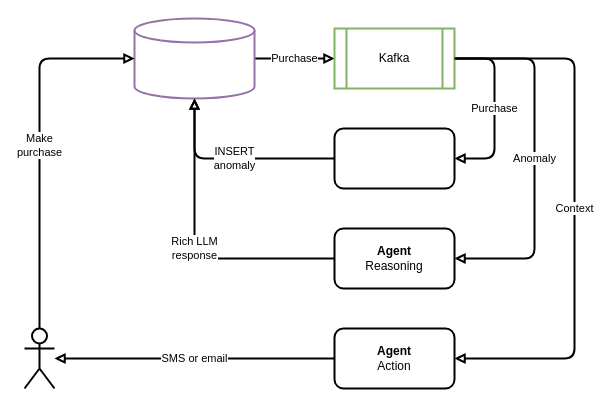
Some shapes in this 611 by 406 pixel diagram are drawn without their labels. The shapes that lost their labels are listed below. From the top down, each one's box as (x1, y1, x2, y2) in pixels, then its label:
(133, 17, 255, 99): CockroachDB
(333, 127, 455, 189): Agent Anomaly Detection
